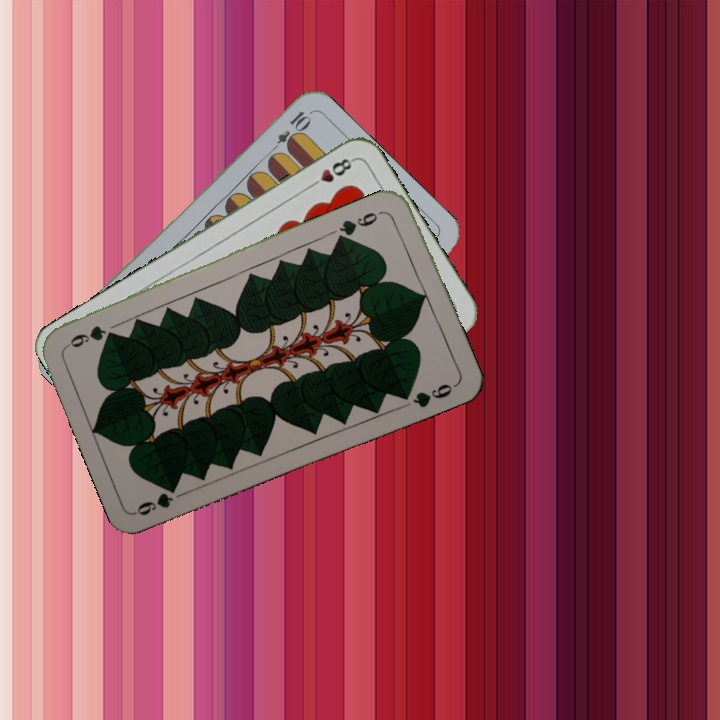E10: (265, 107, 313, 158)
G9: (334, 206, 387, 242), (132, 483, 180, 518)
H8: (304, 154, 357, 192)
